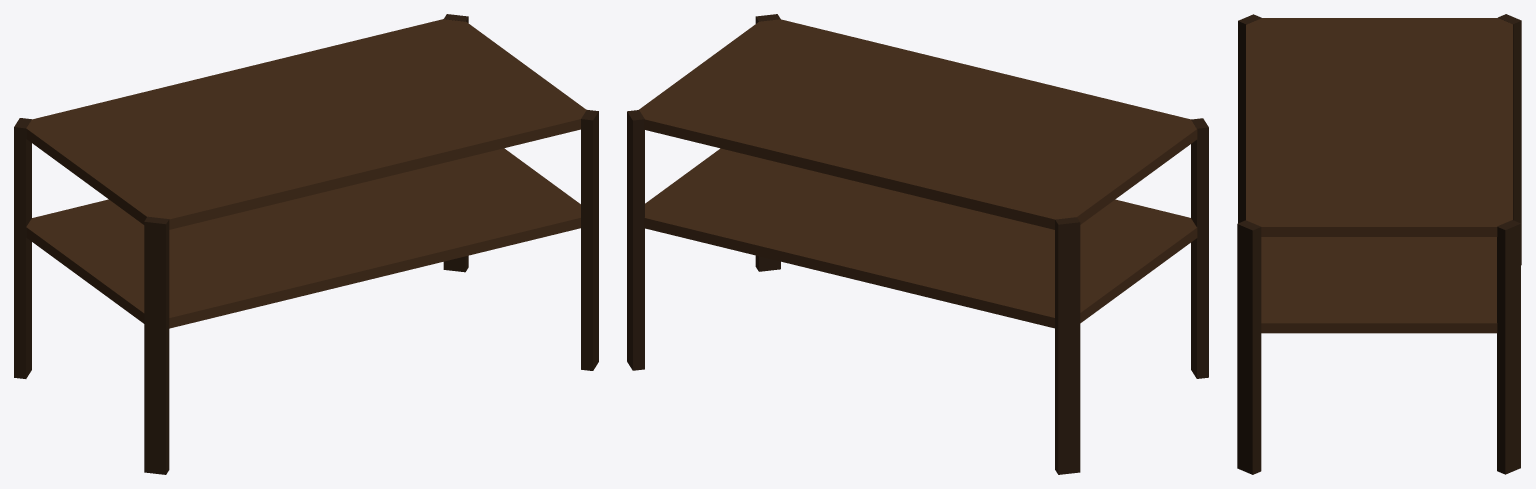
The model's file is Desk_02.fbx.
The picture shows the model from 3 angles, left to right: view 1: azimuth 30°, elevation 25°; view 2: azimuth 150°, elevation 25°; view 3: azimuth 270°, elevation 25°; orthographic projection. The views are drawn at different scales.
Visible parts, largest first — view 1: Plane.024; view 2: Plane.024; view 3: Plane.024.
Part boxes in pixels (box(x1,y1,x2,y2)): Plane.024: box(14, 14, 598, 474); Plane.024: box(627, 14, 1208, 474); Plane.024: box(1237, 14, 1521, 474).
Bounding box in the file's own units: 387 × 204 × 215.
